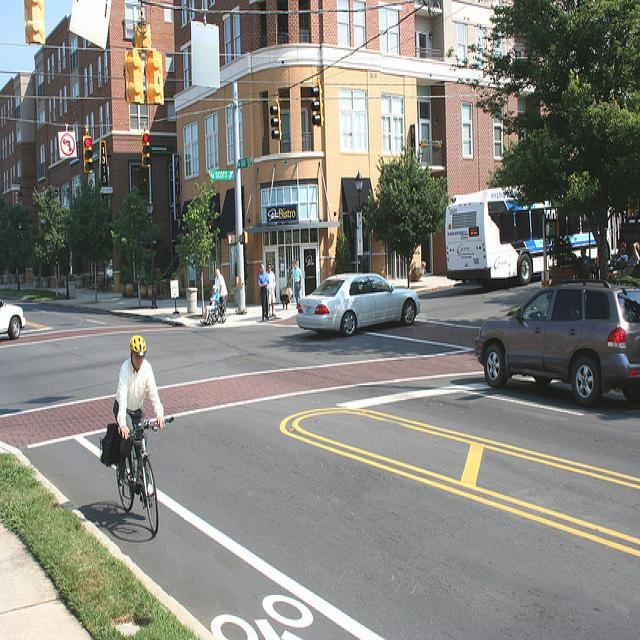Vehicle: (464, 281, 640, 406), (444, 185, 546, 282), (297, 272, 420, 334), (0, 298, 27, 341)
